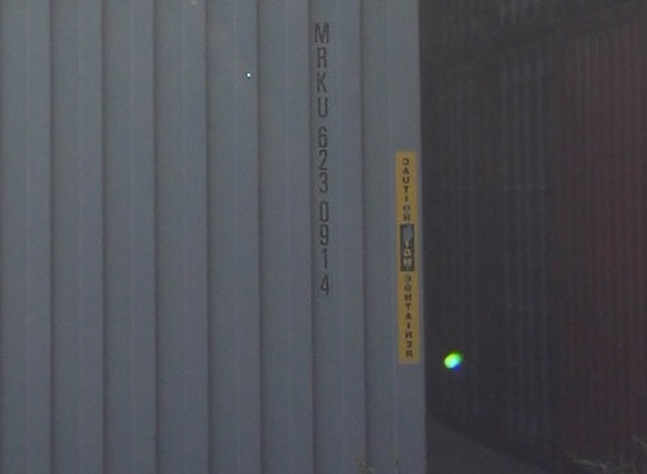container_no_door: (1, 6, 422, 474)
